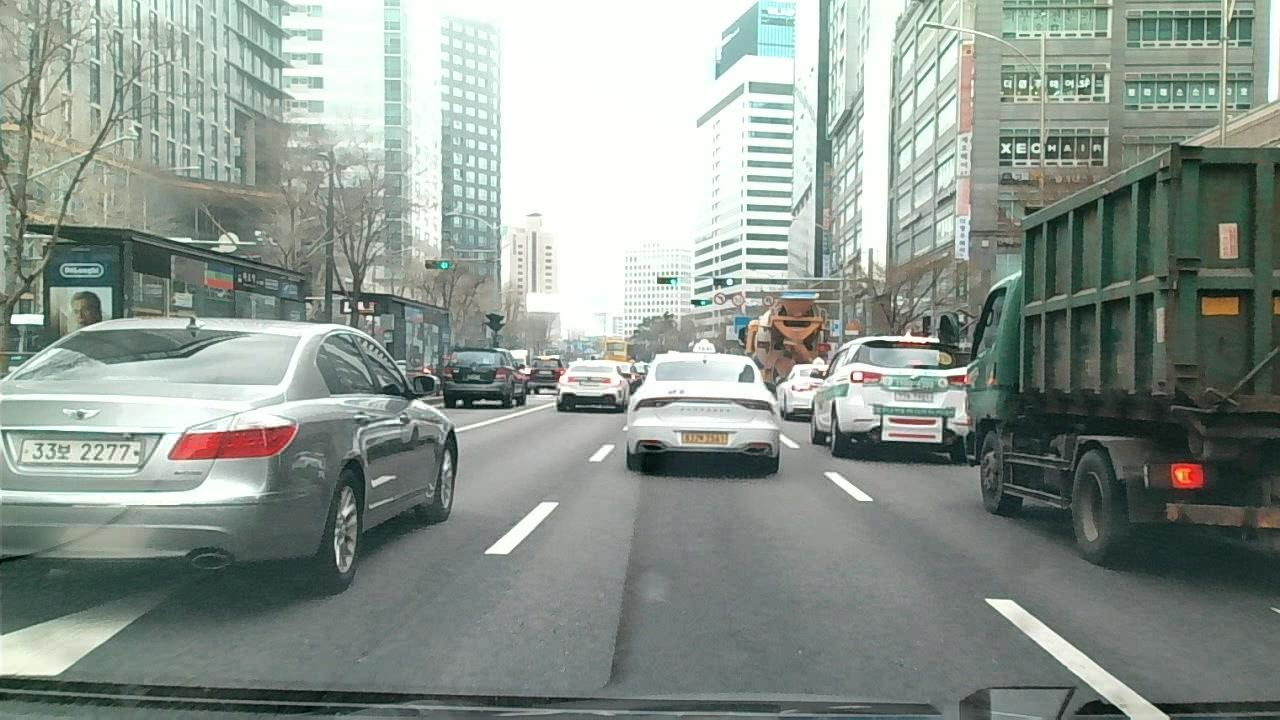vcrack: (603, 493, 638, 691)
